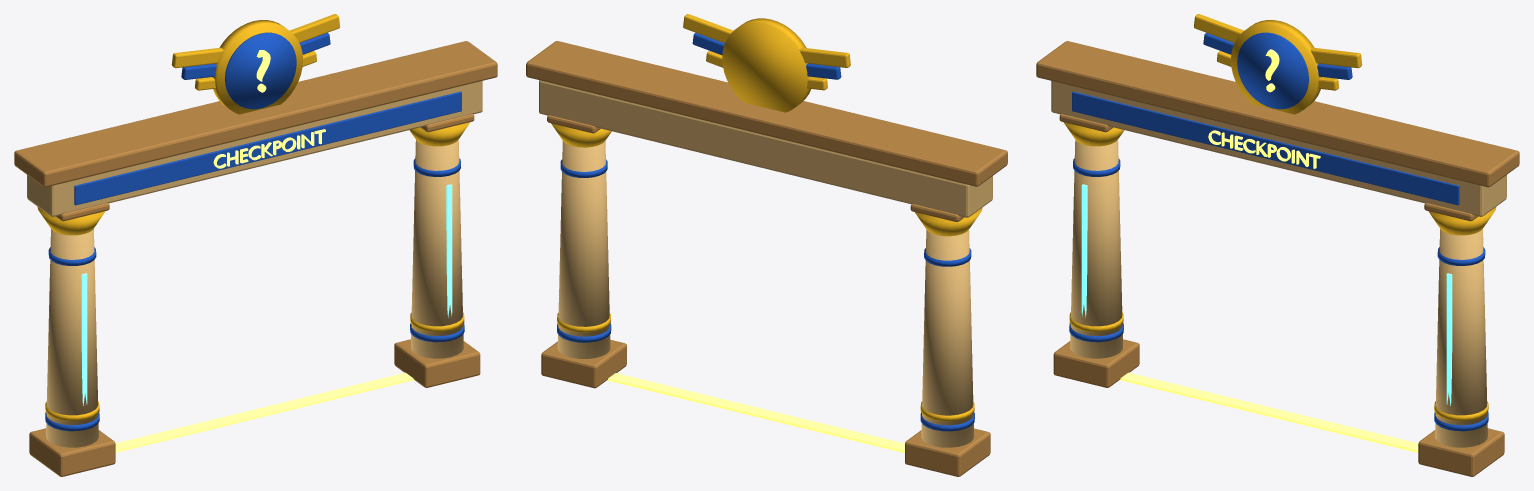
The model's file is checkpoint_gate.glb.
3 renders of one model, left to right at view 1: azimuth 30°, elevation 25°; view 2: azimuth 150°, elevation 25°; view 3: azimuth 330°, elevation 25°, orthographic.
Parts seen in each view (by area): view 1: checkpointGate; view 2: checkpointGate; view 3: checkpointGate.
Part boxes in pixels (<box>): checkpointGate: <box>14,14,497,476</box>; checkpointGate: <box>526,14,1007,476</box>; checkpointGate: <box>1036,14,1519,476</box>.
Bounding box in the file's own units: 12.2 × 10.1 × 1.64.
